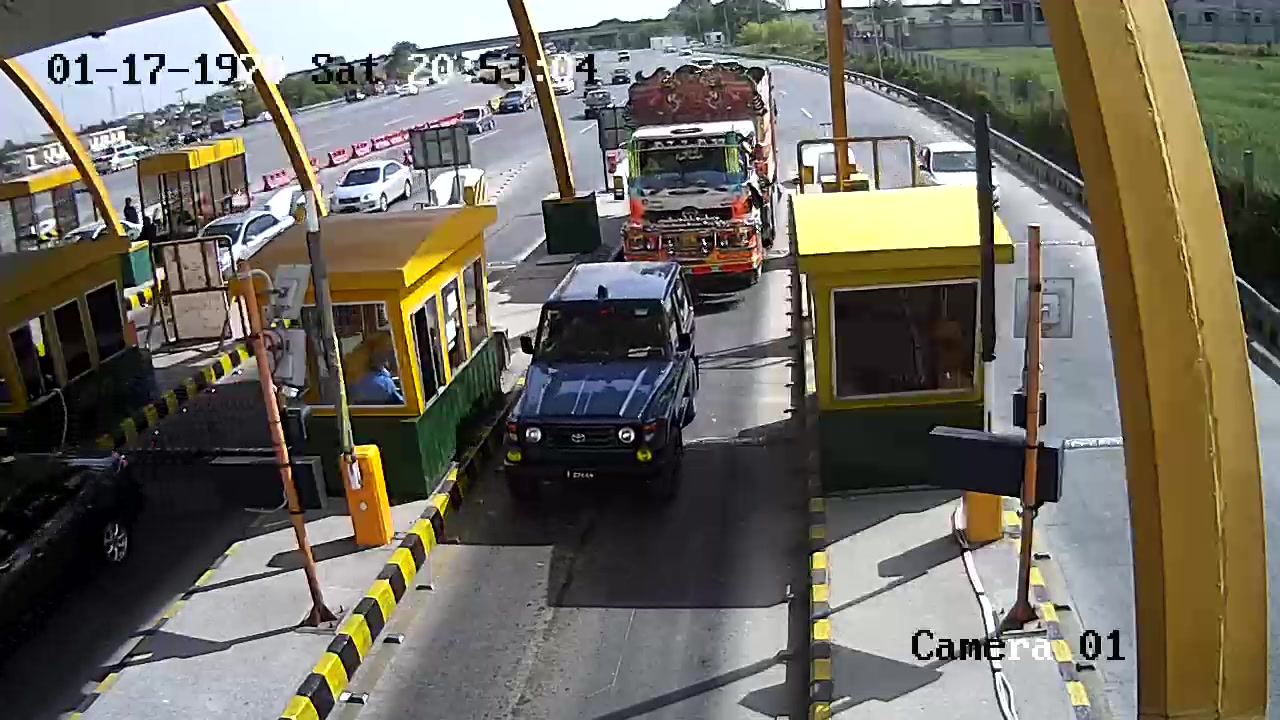F1: (504, 260, 710, 511)
